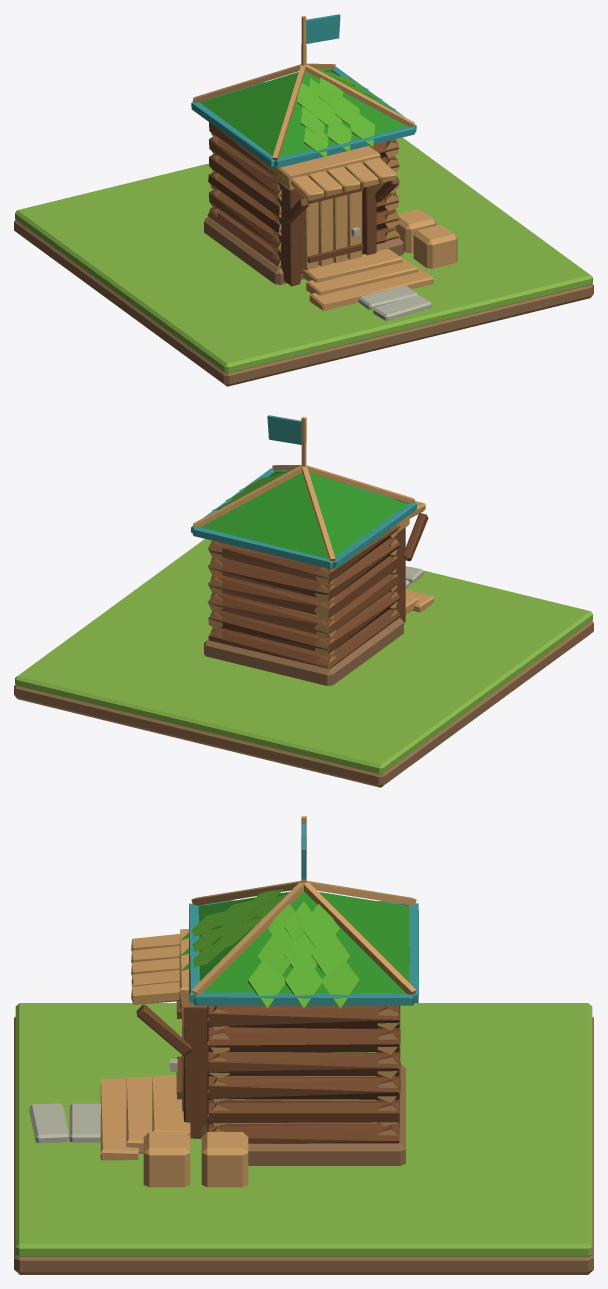
File: town_hall_l01_active_LOD1.glb
3 views of the same model, one above another, from view 1: azimuth 30°, elevation 25°; view 2: azimuth 150°, elevation 25°; view 3: azimuth 270°, elevation 25° (orthographic). The views are drawn at different scales.
Visible parts, largest first — view 1: town_hall_l01_active_grass_tile.001, town_hall_l01_active_foundation.001, town_hall_l01_active_earth_tile.001, town_hall_l01_active_path_stone.005, town_hall_l01_active_path_stone.004; view 2: town_hall_l01_active_grass_tile.001, town_hall_l01_active_foundation.001, town_hall_l01_active_earth_tile.001; view 3: town_hall_l01_active_grass_tile.001, town_hall_l01_active_foundation.001, town_hall_l01_active_earth_tile.001, town_hall_l01_active_path_stone.005, town_hall_l01_active_path_stone.004.
Part boxes in pixels (x1,y1,x2,y2): town_hall_l01_active_grass_tile.001: [15, 137, 592, 373]; town_hall_l01_active_foundation.001: [191, 14, 457, 310]; town_hall_l01_active_earth_tile.001: [14, 219, 593, 386]; town_hall_l01_active_path_stone.005: [373, 295, 431, 320]; town_hall_l01_active_path_stone.004: [358, 285, 417, 310]; town_hall_l01_active_grass_tile.001: [15, 539, 592, 774]; town_hall_l01_active_foundation.001: [191, 415, 434, 685]; town_hall_l01_active_earth_tile.001: [14, 620, 593, 787]; town_hall_l01_active_grass_tile.001: [15, 1003, 592, 1256]; town_hall_l01_active_foundation.001: [100, 816, 418, 1187]; town_hall_l01_active_earth_tile.001: [14, 1017, 593, 1274]; town_hall_l01_active_path_stone.005: [29, 1103, 69, 1143]; town_hall_l01_active_path_stone.004: [69, 1103, 100, 1142].
Size of the model in its own units: 3.6 by 2.31 by 3.6.
